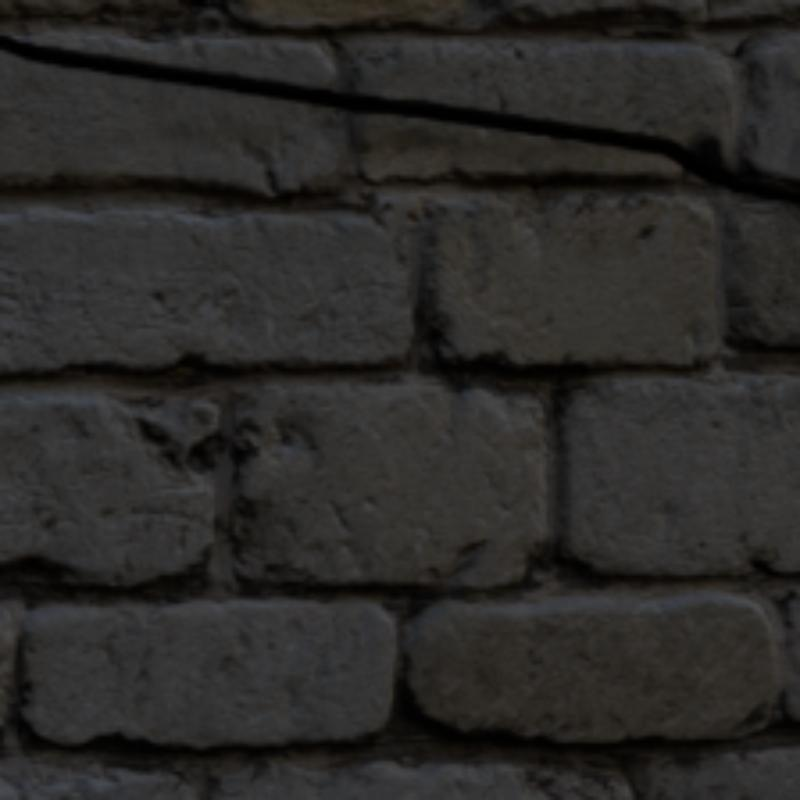pothole: (0, 36, 796, 204)
